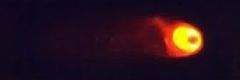keyhole: (187, 36, 199, 46)
